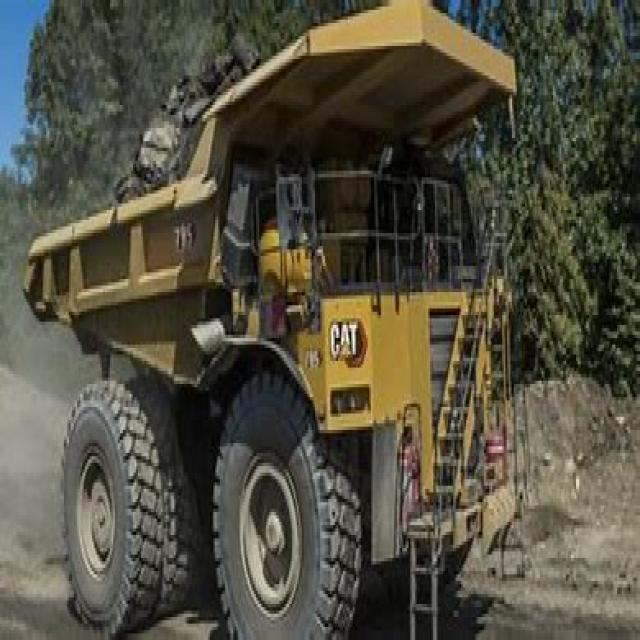dump_truck: (25, 7, 510, 630)
